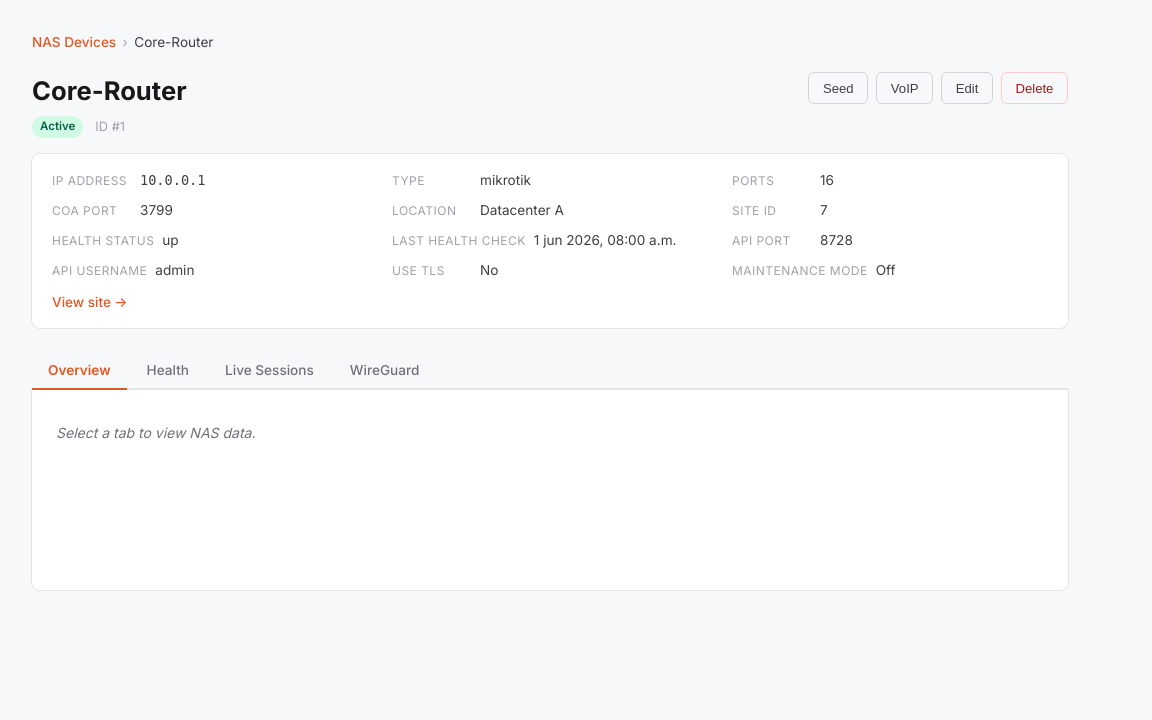
Test: NasDetail page › refreshes VoIP ranges from the header and shows the reconcile result
Expected: the heading "Core-Router" is shown, x1=32 y1=72 x2=187 y2=111
What coordinates should you click on to do the following:
click the button "VoIP"
I would click on:
 (905, 88)
Its box is x1=876 y1=72 x2=933 y2=104.
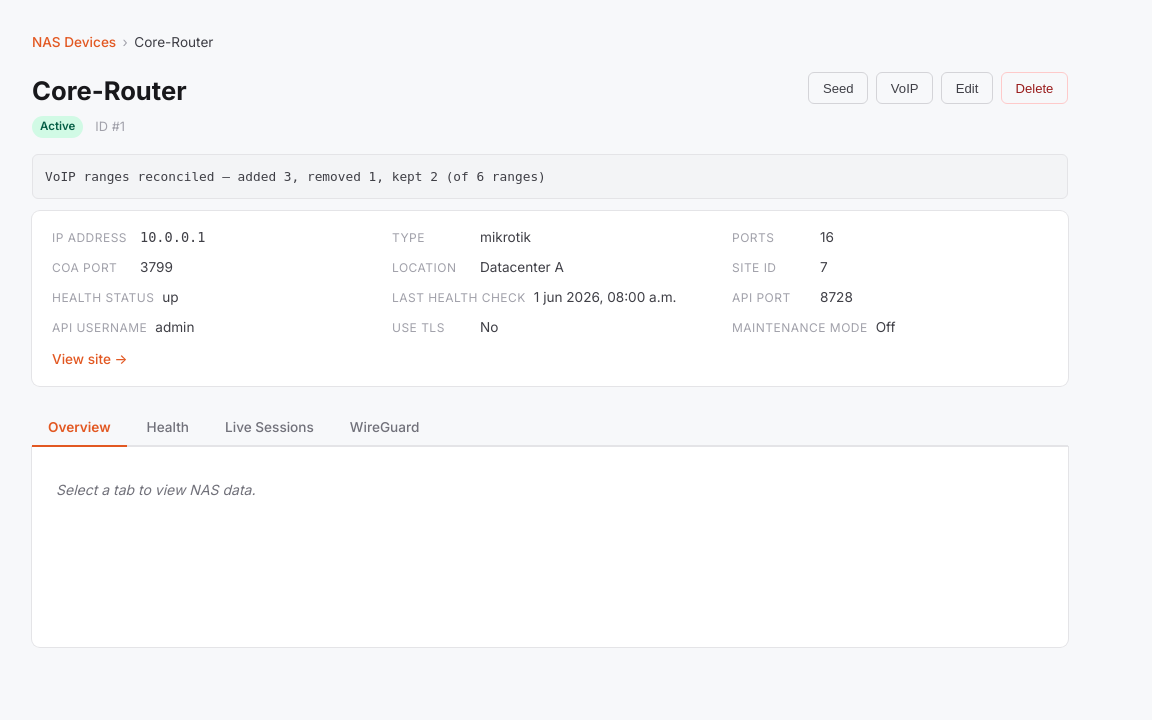
Result: the text "VoIP ranges reconciled" is shown at x1=45 y1=169 x2=546 y2=184
